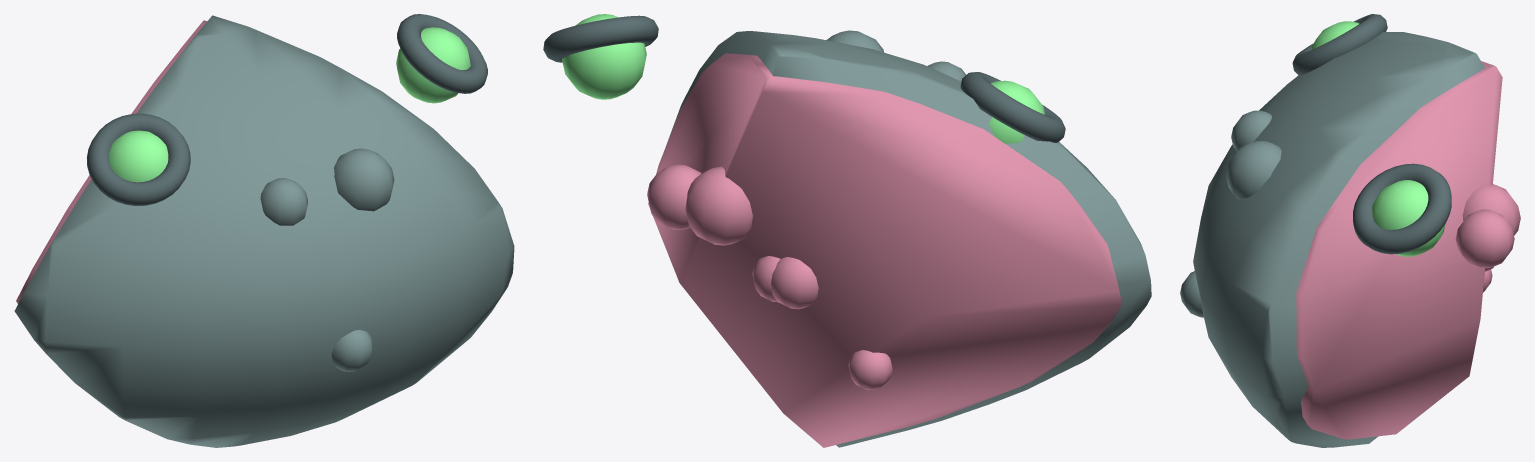
Rendered from chunk10.glb.
The picture shows the model from 3 angles, left to right: view 1: azimuth 30°, elevation 25°; view 2: azimuth 150°, elevation 25°; view 3: azimuth 270°, elevation 25°; orthographic projection. The views are drawn at different scales.
Parts seen in each view (by area): view 1: skin, lip, glow, flesh; view 2: flesh, skin, lip, glow; view 3: flesh, skin, lip, glow.
Part boxes in pixels (x1,y1,x2,y2): skin: (14, 15, 514, 447); lip: (87, 14, 487, 206); glow: (108, 27, 470, 182); flesh: (16, 20, 206, 303); flesh: (647, 53, 1121, 447); skin: (667, 30, 1151, 447); lip: (543, 15, 1065, 142); glow: (562, 14, 1044, 143); flesh: (1296, 61, 1520, 439); skin: (1180, 32, 1484, 447); lip: (1292, 14, 1451, 254); glow: (1311, 21, 1445, 256).
Size of the model in its own units: 1.44 by 1.06 by 0.8395.
